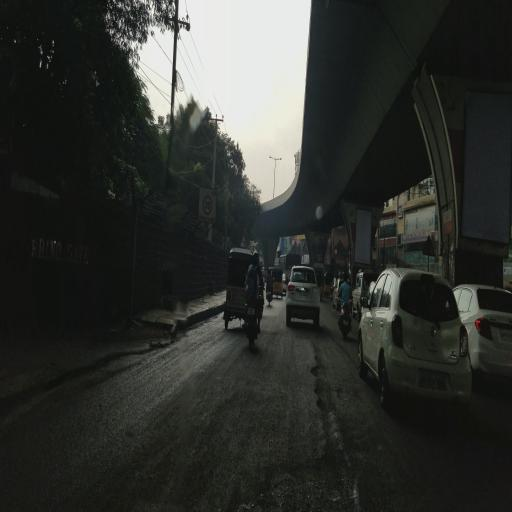street_light_0: (274, 148, 284, 170), (266, 146, 276, 168)
